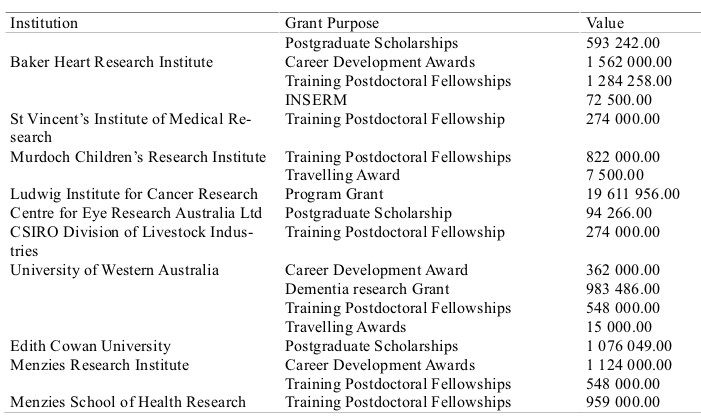column: (4, 9, 277, 419), (277, 9, 538, 419), (539, 9, 699, 419)
row: (2, 223, 699, 259), (3, 113, 700, 145), (3, 394, 701, 418), (4, 8, 701, 31), (1, 373, 701, 394), (3, 71, 701, 92), (3, 165, 701, 186), (3, 298, 701, 319), (3, 317, 701, 338), (1, 185, 700, 205), (3, 93, 701, 113), (1, 52, 701, 71), (1, 338, 701, 357), (1, 147, 700, 166), (3, 278, 701, 297), (3, 260, 700, 279), (2, 33, 701, 51), (1, 357, 701, 374), (3, 207, 699, 222)
